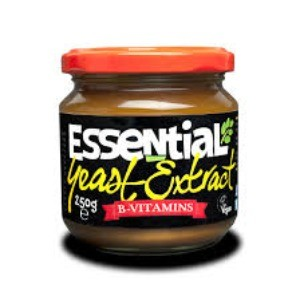yeast spread_brain food: (61, 98, 235, 219)
